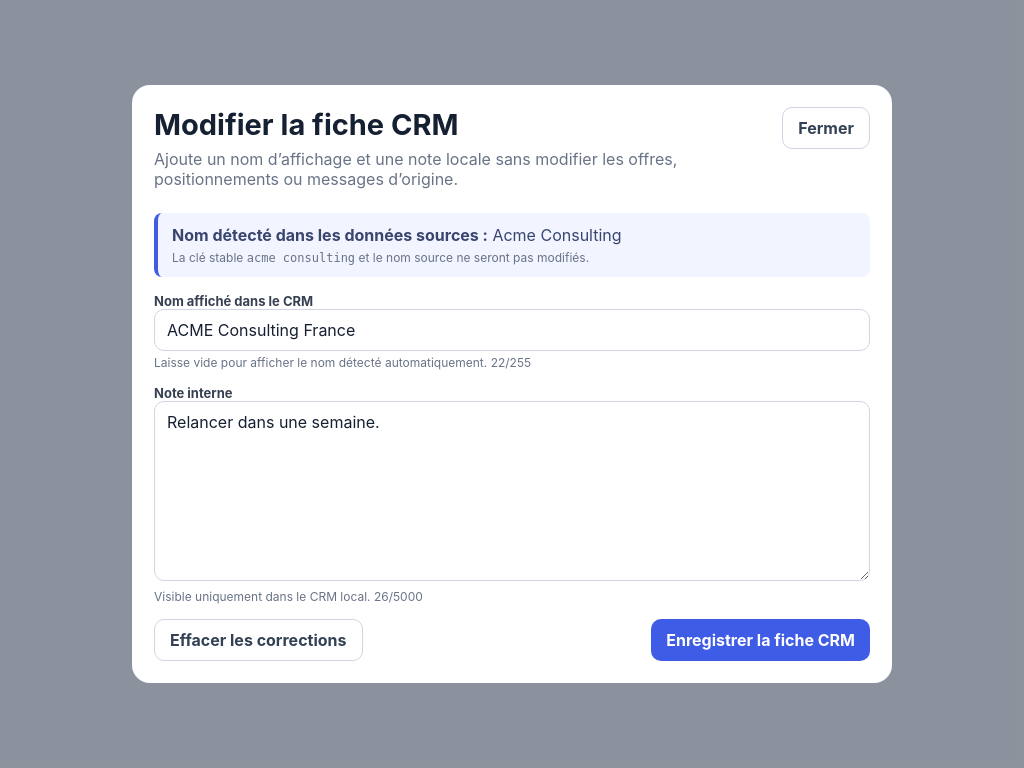
Test: CrmOrganizationAnnotationEditor › clears both fields only after explicit confirmation
Click the button "Effacer les corrections": (258, 640) [154, 619, 362, 661]
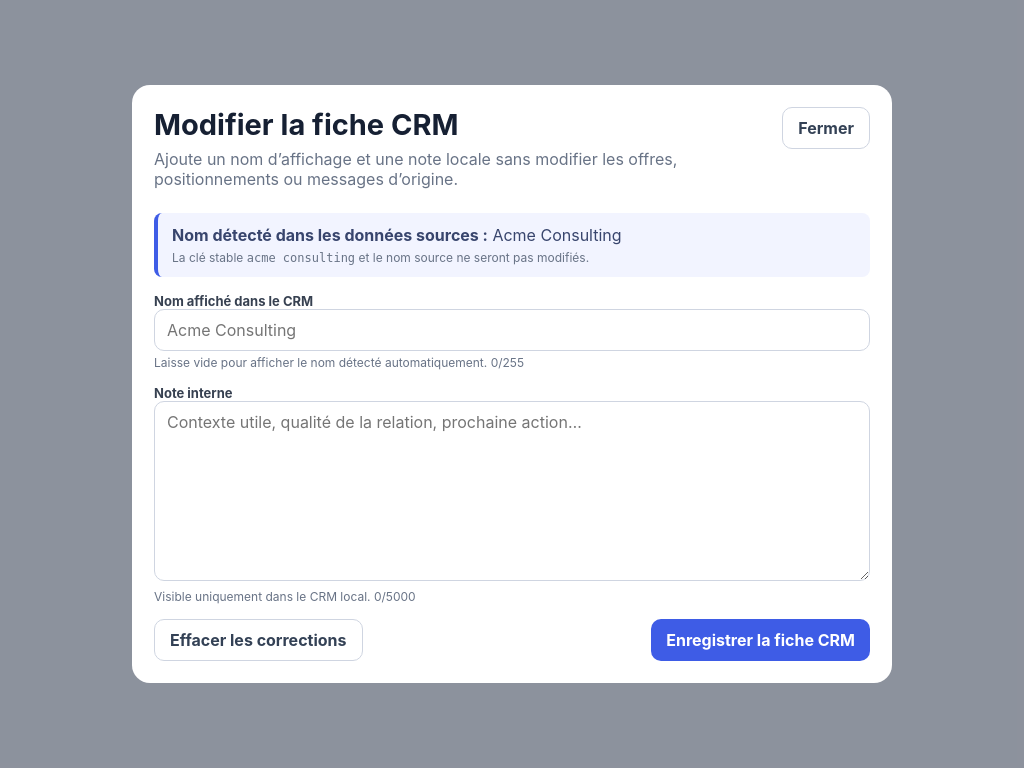
Expected: the field labelled "Nom affiché dans le CRM" is empty, [154, 309, 870, 351]
Expected: the text box labelled "Note interne" is empty, [154, 401, 870, 581]
